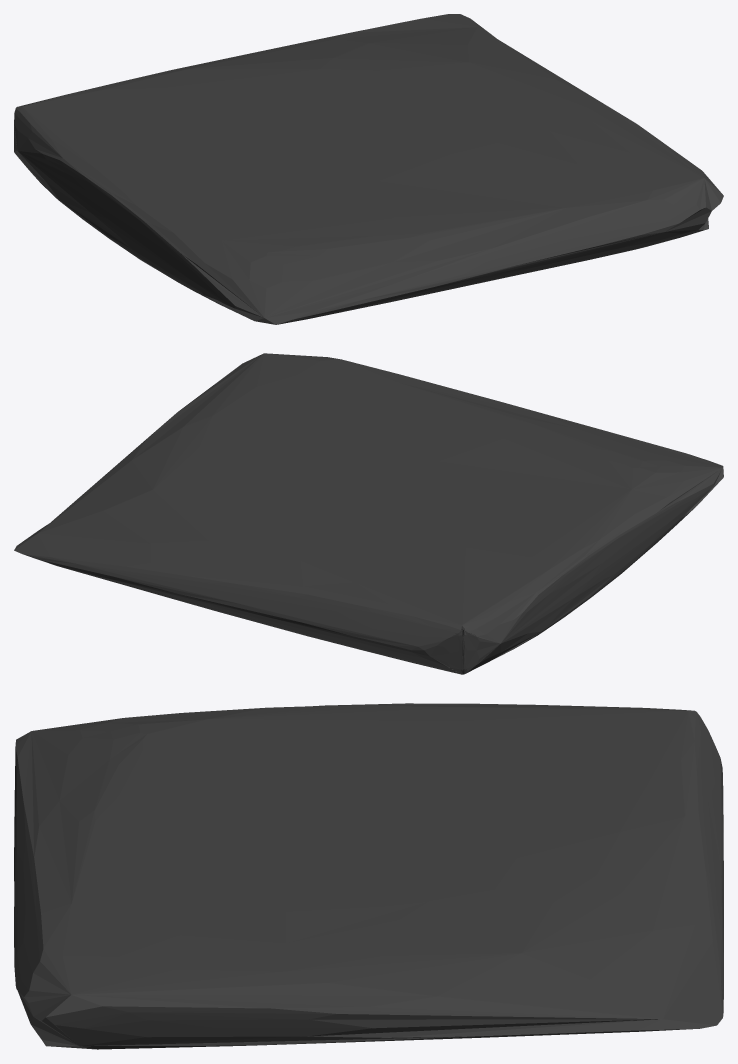
3 views of the same model, one above another, from view 1: azimuth 30°, elevation 25°; view 2: azimuth 150°, elevation 25°; view 3: azimuth 270°, elevation 25° (orthographic). The views are drawn at different scales.
Visible parts, largest first — view 1: world; view 2: world; view 3: world.
Part boxes in pixels (<box>): world: <box>14,14,723,324</box>; world: <box>14,353,723,674</box>; world: <box>14,703,723,1049</box>.
Bounding box in the file's own units: 2972 × 300 × 2969.
1 material, 1 textured.
